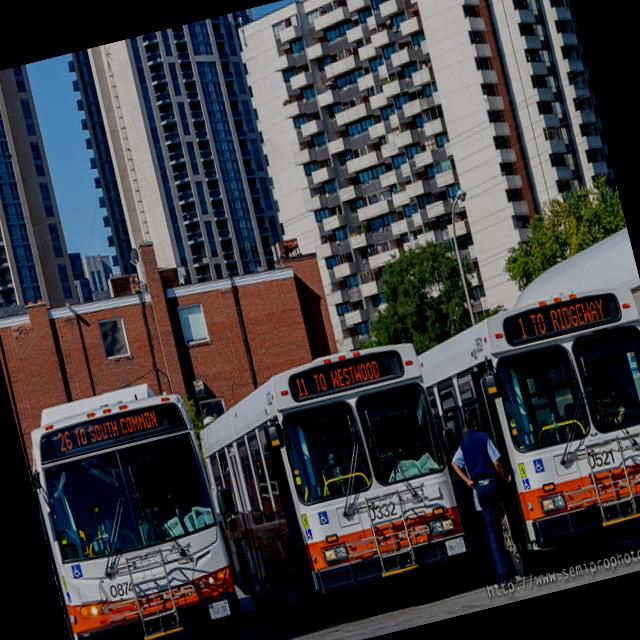Vehicle: (183, 332, 480, 640), (410, 272, 640, 569), (13, 372, 240, 640)
